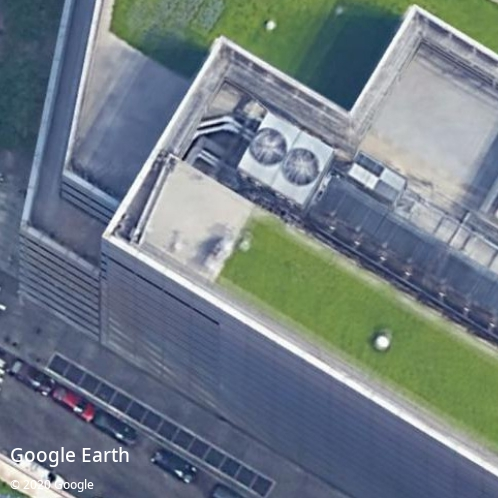Vent: (250, 129, 287, 165), (283, 148, 319, 185)
